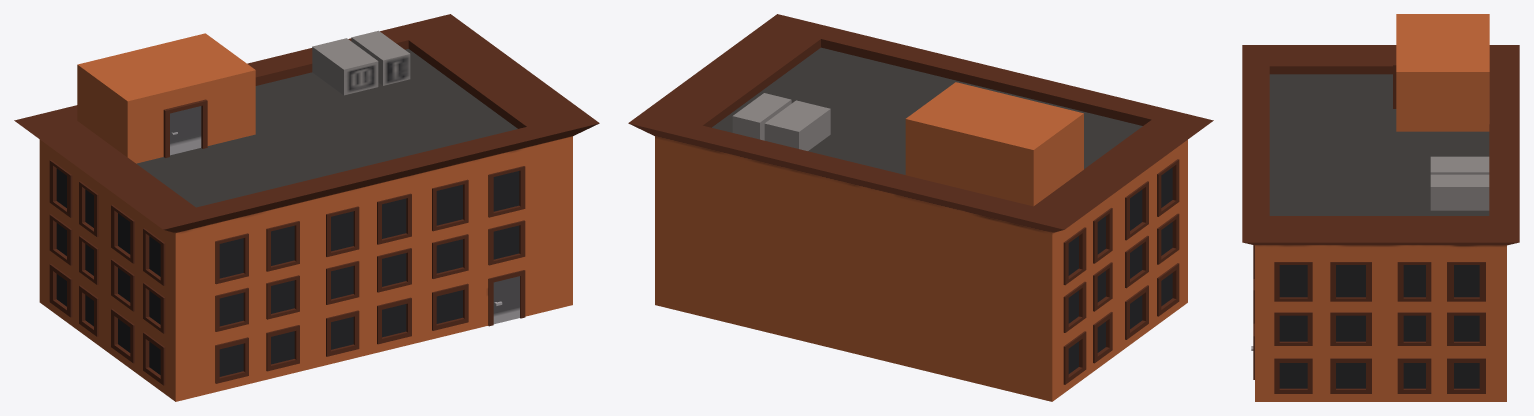
File: Modell.fbx
3 views of the same model, side by side, from view 1: azimuth 30°, elevation 25°; view 2: azimuth 150°, elevation 25°; view 3: azimuth 270°, elevation 25° (orthographic). The views are drawn at different scales.
Parts seen in each view (by area): view 1: Cube.001; view 2: Cube.001; view 3: Cube.001.
Part boxes in pixels (left/top/right/bottom): Cube.001: left=14, top=14, right=599, bottom=401; Cube.001: left=628, top=14, right=1213, bottom=401; Cube.001: left=1242, top=14, right=1519, bottom=401.
Size of the model in its own units: 5825 by 3035 by 3451.
Materials: 1 (1 with a texture image).
